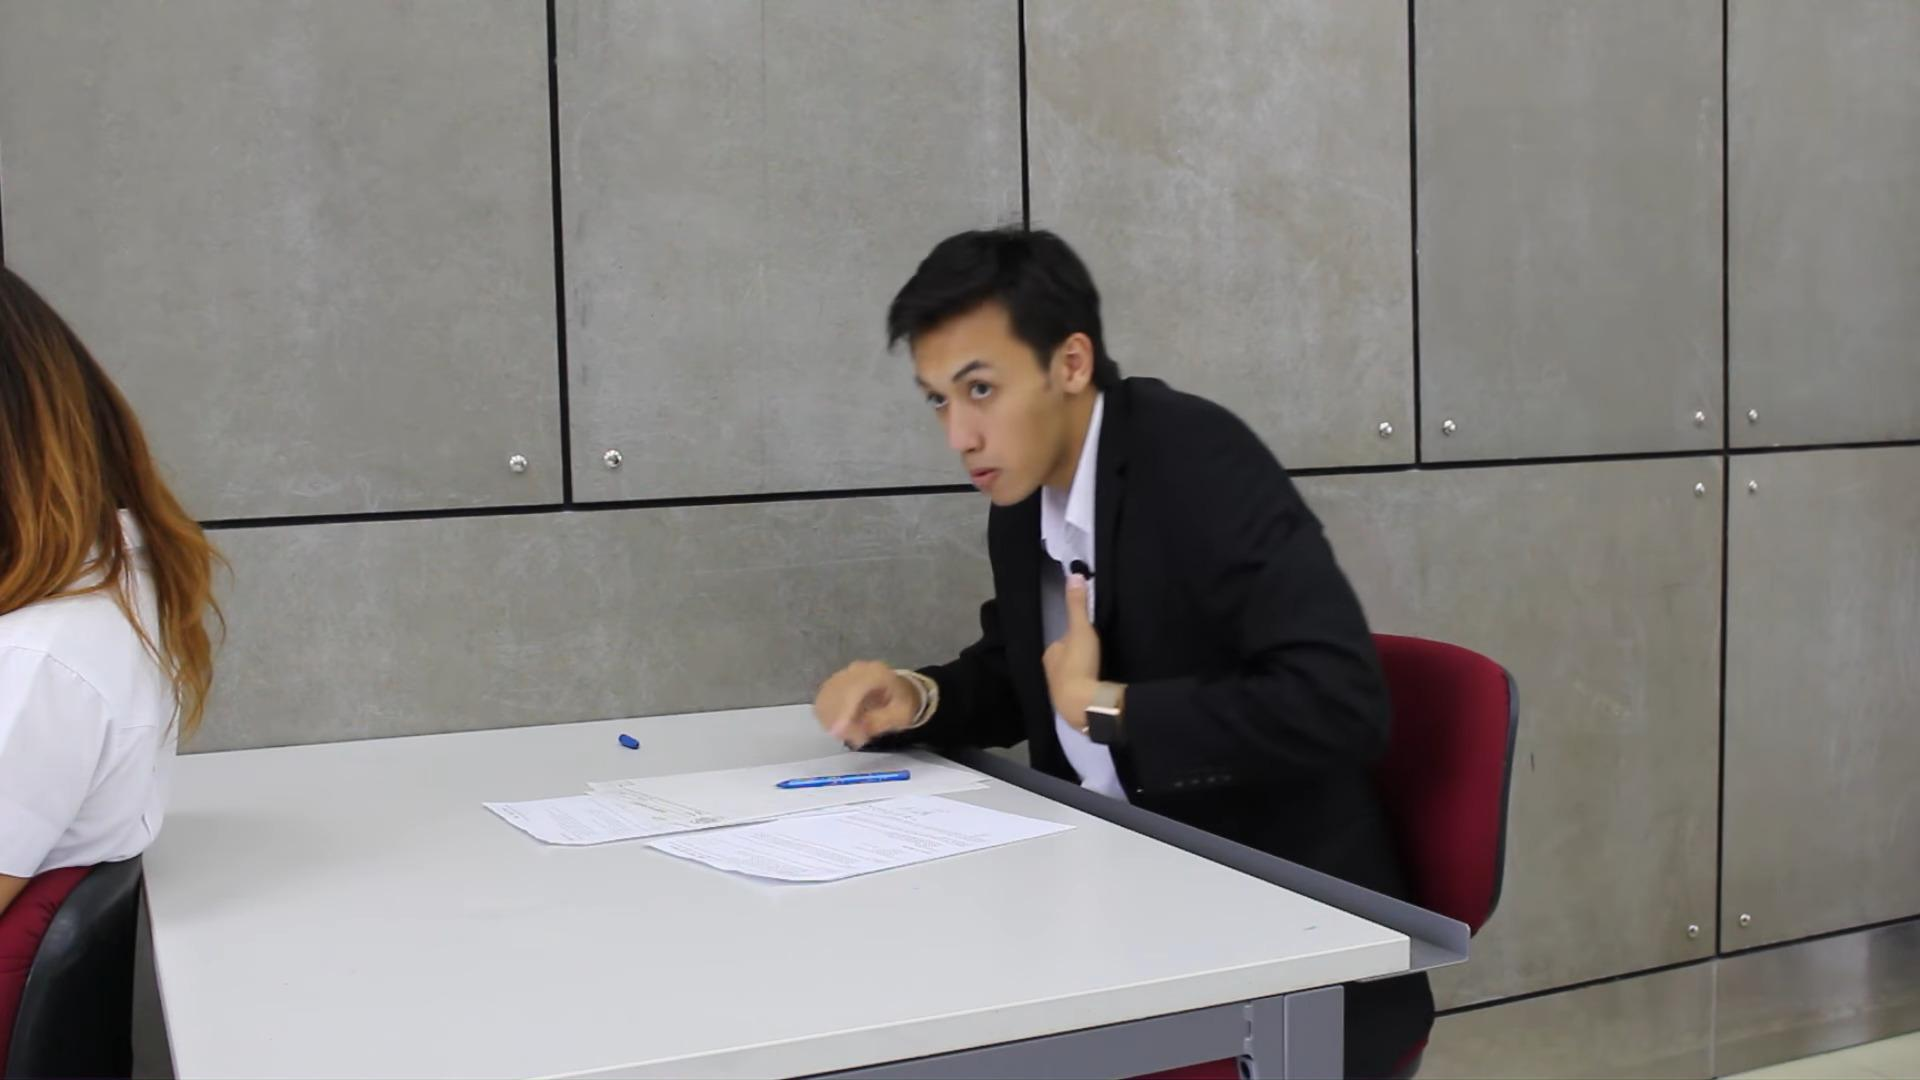cheating: (460, 161, 1451, 910)
